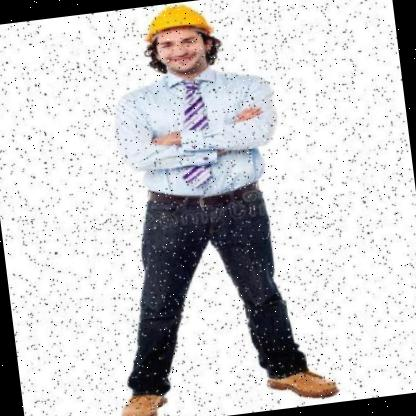bota: (260, 356, 340, 408), (114, 378, 172, 416)
capacete: (142, 0, 222, 80)
